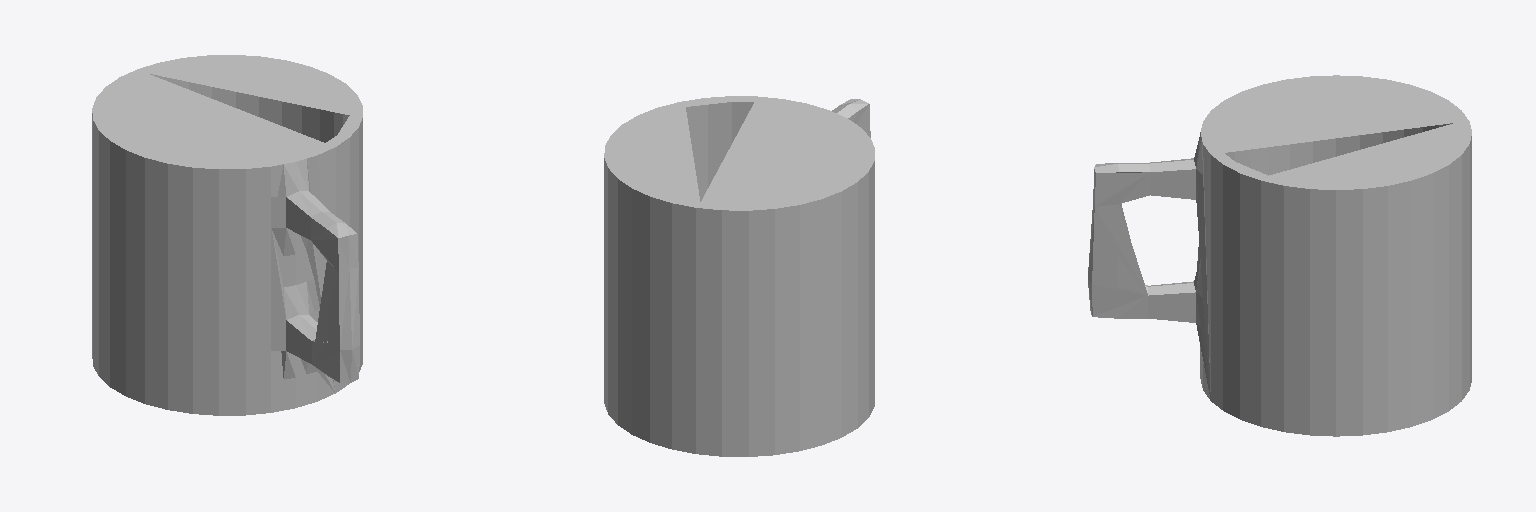
The model's file is mug.obj.
3 renders of one model, left to right at view 1: azimuth 30°, elevation 25°; view 2: azimuth 150°, elevation 25°; view 3: azimuth 270°, elevation 25°, orthographic.
Visible parts, largest first — view 1: Cylinder; view 2: Cylinder; view 3: Cylinder.
Boxes of the visible parts, x1,y1,x2,y2 form: Cylinder: [92, 55, 362, 415]; Cylinder: [604, 96, 874, 456]; Cylinder: [1088, 75, 1471, 436].
Size of the model in its own units: 2 by 2 by 2.83.